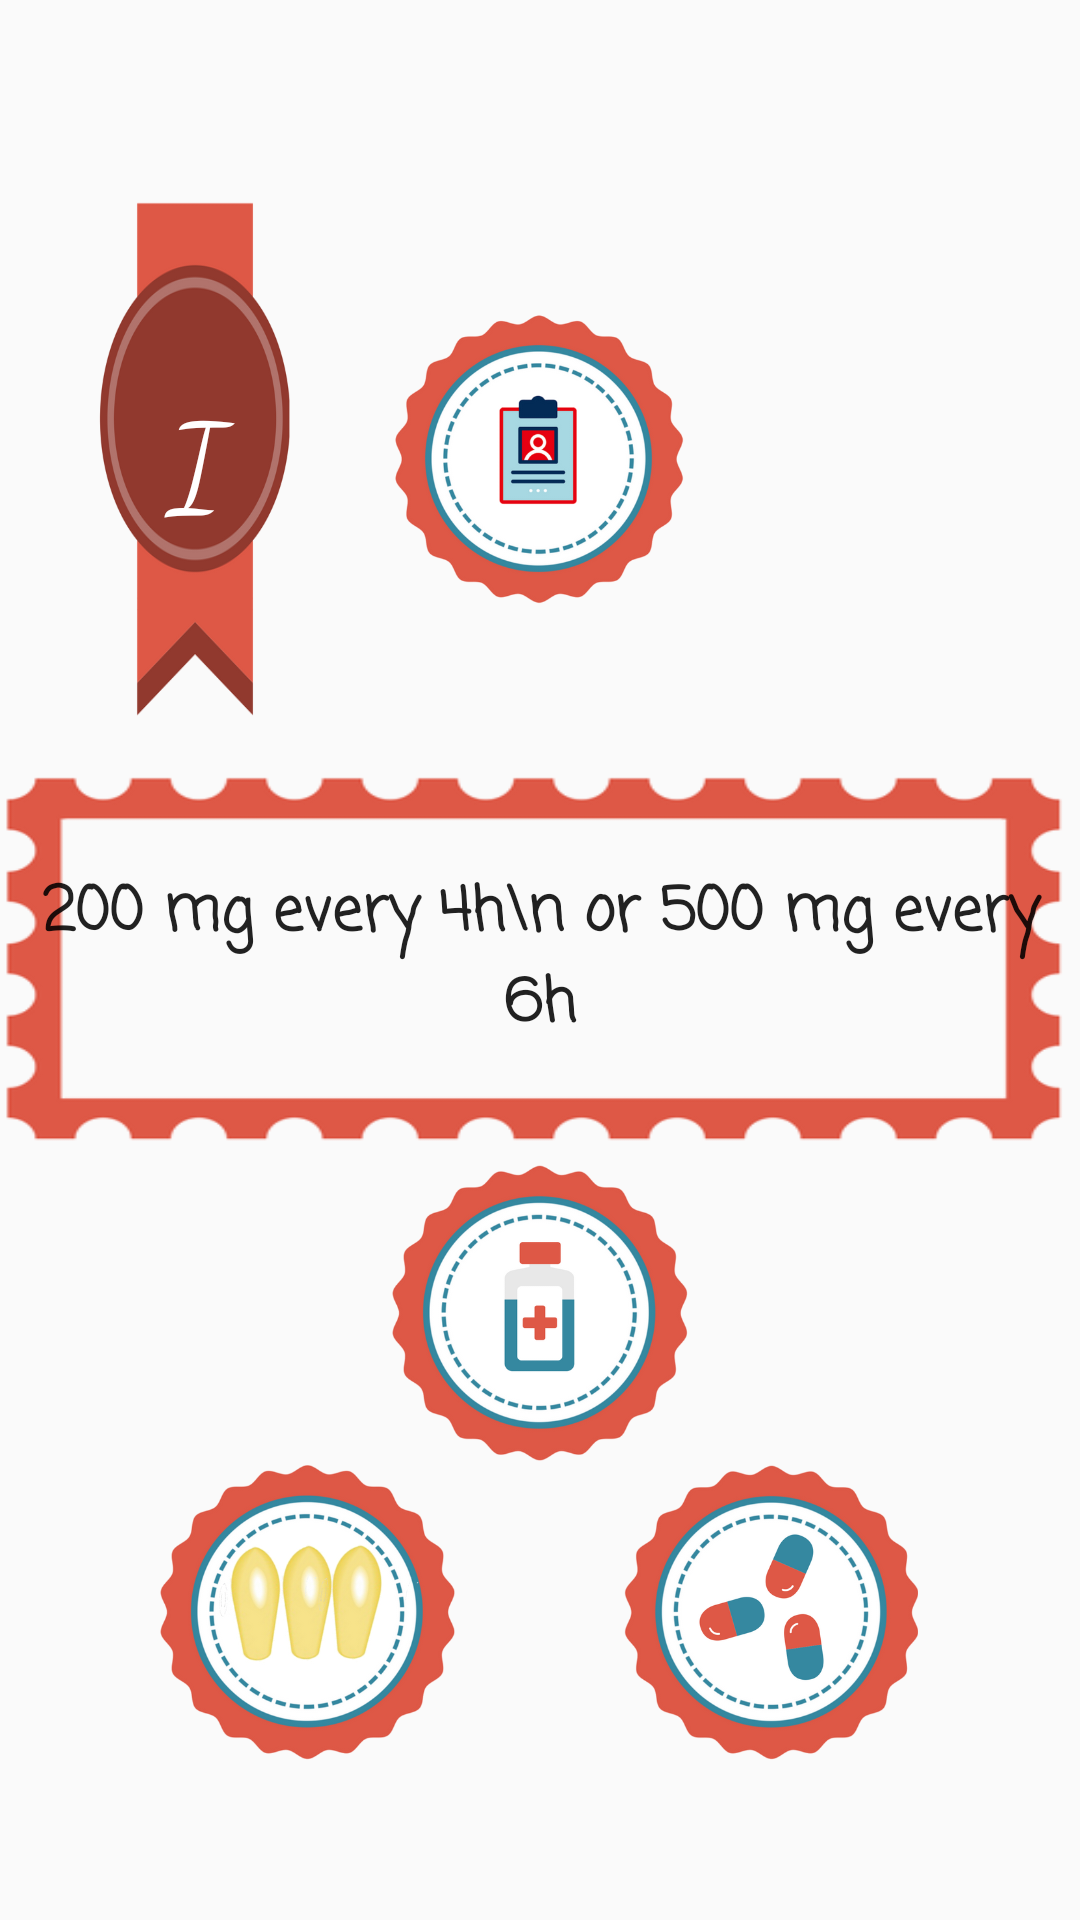

Locate icon controls on the screen. Image size 1080px x 1920px, boxes as rect(x1, y1, x2, y2).
ibu tabl: rect(625, 1465, 918, 1759)
ibup czop: rect(160, 1465, 455, 1759)
ibup syr: rect(392, 1165, 687, 1461)
